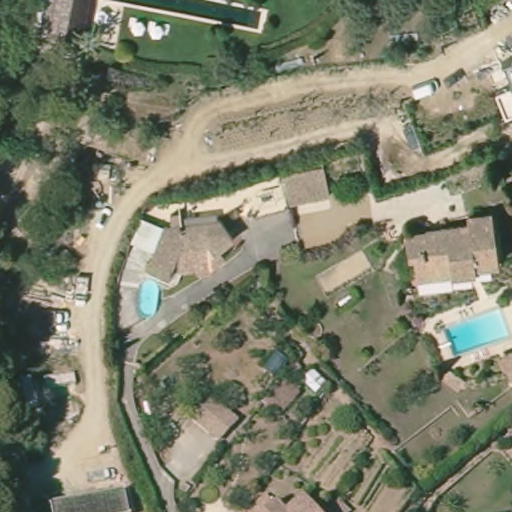pool: (444, 307, 509, 357), (133, 275, 162, 321)
